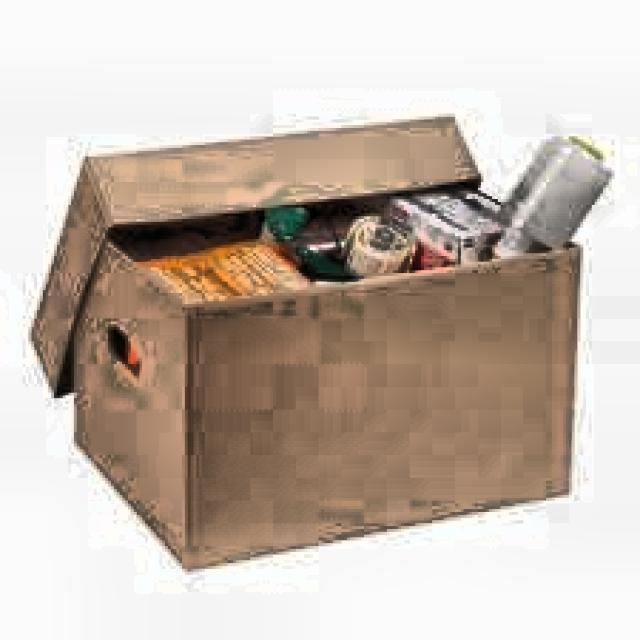cardboard: (26, 111, 588, 572)
